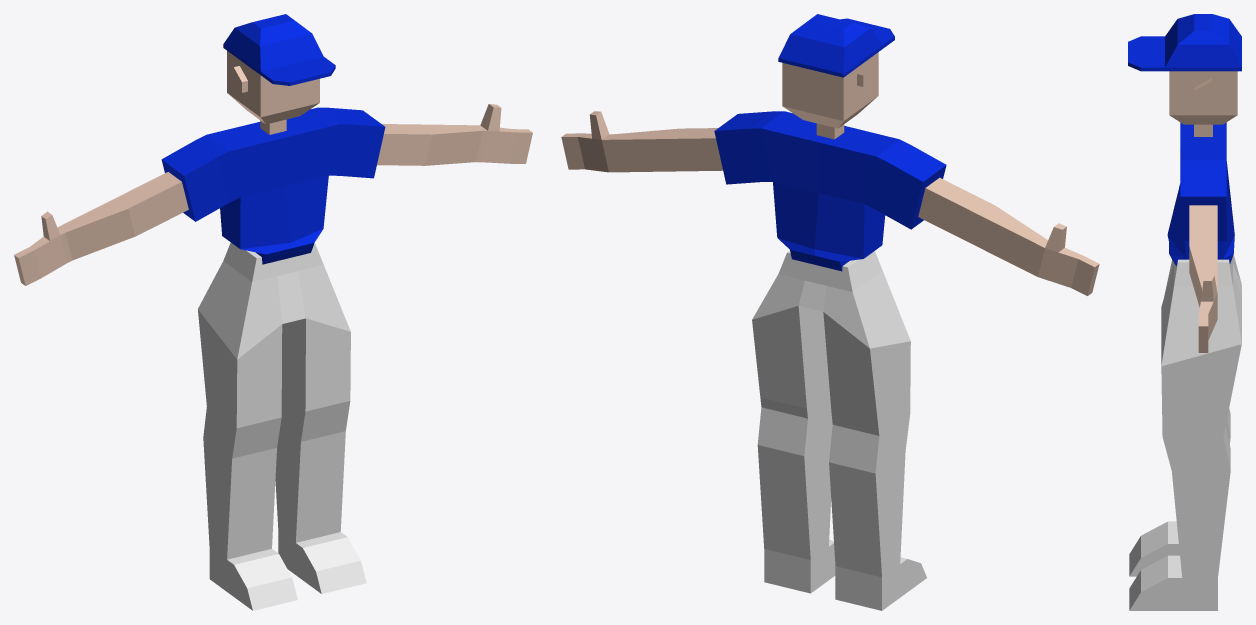
Rendered from HUMAN_LOW.fbx.
3 renders of one model, left to right at view 1: azimuth 30°, elevation 25°; view 2: azimuth 150°, elevation 25°; view 3: azimuth 270°, elevation 25°, orthographic. The views are drawn at different scales.
Parts seen in each view (by area): view 1: Cube.002, Cube.001, Cube; view 2: Cube.002, Cube.001, Cube; view 3: Cube.002, Cube.001, Cube.
Boxes of the visible parts, x1=… form: Cube.002: x1=198, y1=242, x2=366, y2=610; Cube.001: x1=14, y1=104, x2=532, y2=285; Cube: x1=223, y1=14, x2=335, y2=134; Cube.002: x1=752, y1=250, x2=926, y2=610; Cube.001: x1=561, y1=111, x2=1099, y2=295; Cube: x1=778, y1=14, x2=894, y2=139; Cube.002: x1=1129, y1=254, x2=1241, y2=610; Cube.001: x1=1167, y1=122, x2=1234, y2=352; Cube: x1=1128, y1=14, x2=1241, y2=136.
Bounding box in the file's own units: 1771 × 1806 × 332.
